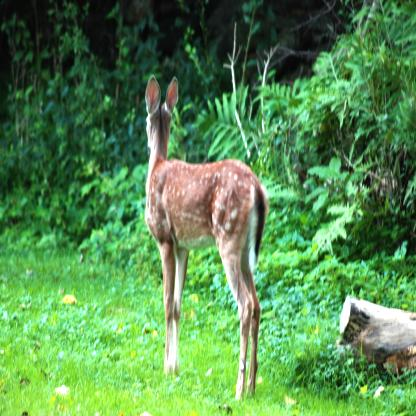Deer: (145, 75, 268, 402)
